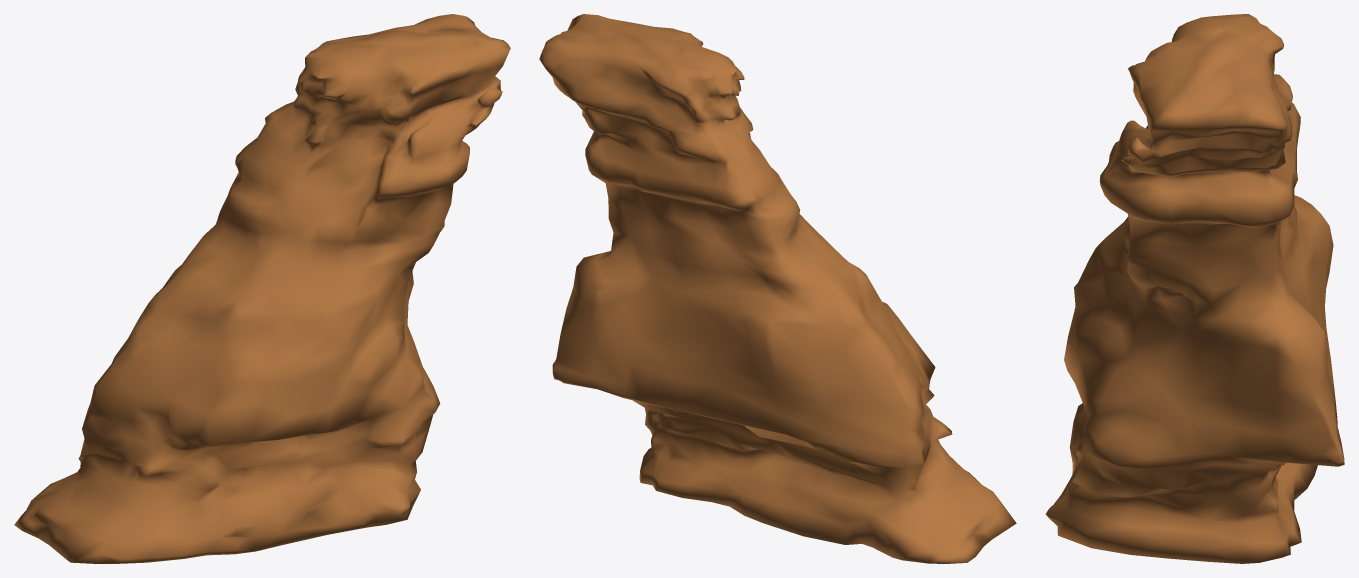
Rendered from MSH_Rocks_Cliff_17_b.FBX.
3 renders of one model, left to right at view 1: azimuth 30°, elevation 25°; view 2: azimuth 150°, elevation 25°; view 3: azimuth 270°, elevation 25°, orthographic. The views are drawn at different scales.
Parts seen in each view (by area): view 1: MESH_LOD0; view 2: MESH_LOD0; view 3: MESH_LOD0.
Part boxes in pixels (box(x1,y1,x2,y2)): MESH_LOD0: box(14, 14, 510, 563); MESH_LOD0: box(539, 14, 1016, 563); MESH_LOD0: box(1045, 14, 1344, 563).
Size of what is drawn, in the model's own units: 480 by 442 by 227.
